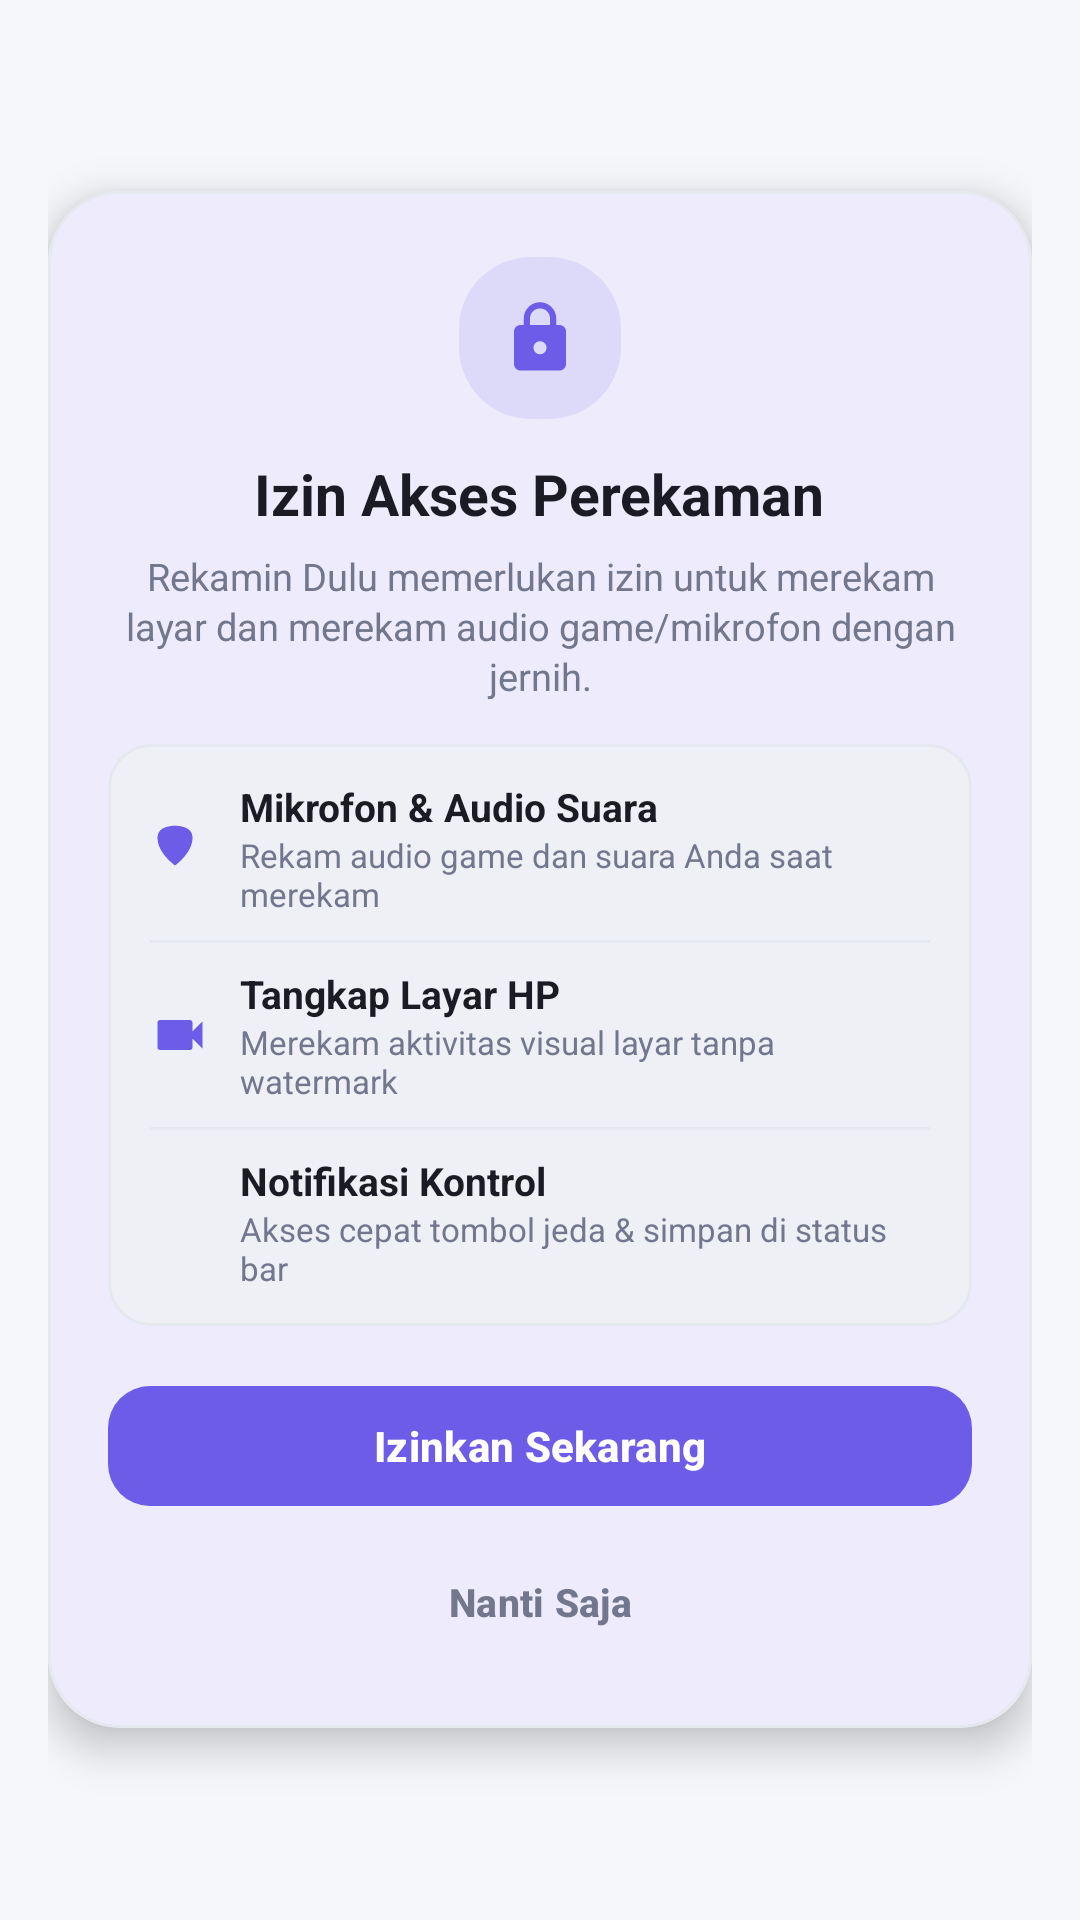

Where to tap for icons on this 1080px×1920px app screen, as (x,y):
Ikon Izin Akses: (540,336)
